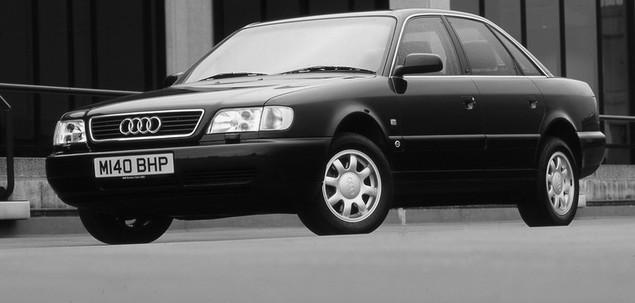car: (48, 9, 610, 247)
